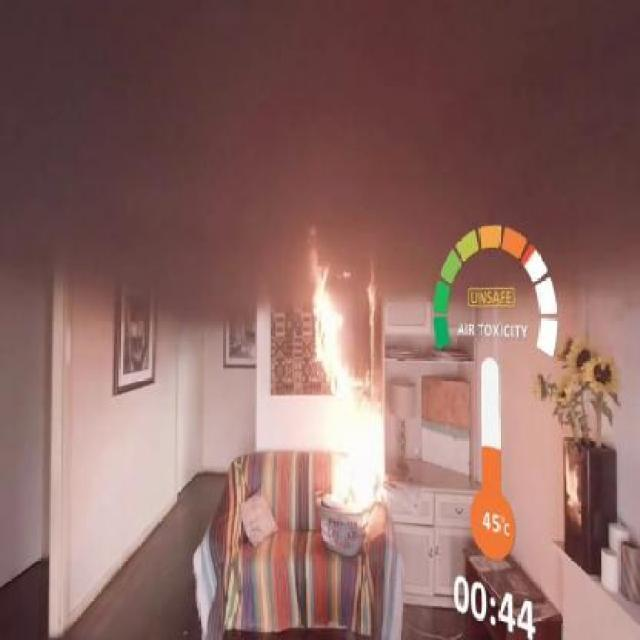fire: (298, 240, 400, 558)
smoke: (117, 30, 483, 233)
